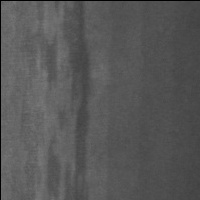inclusion: (35, 2, 91, 200)
